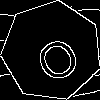O: (26, 26, 85, 86)
